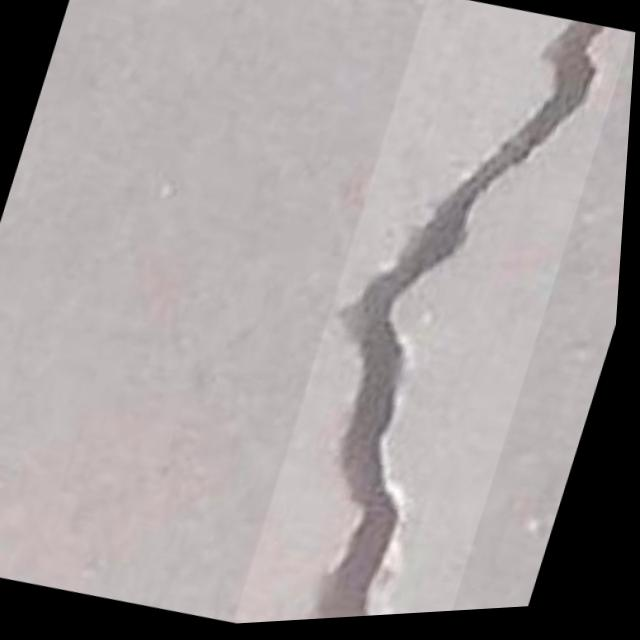Crack: (230, 0, 639, 628)
